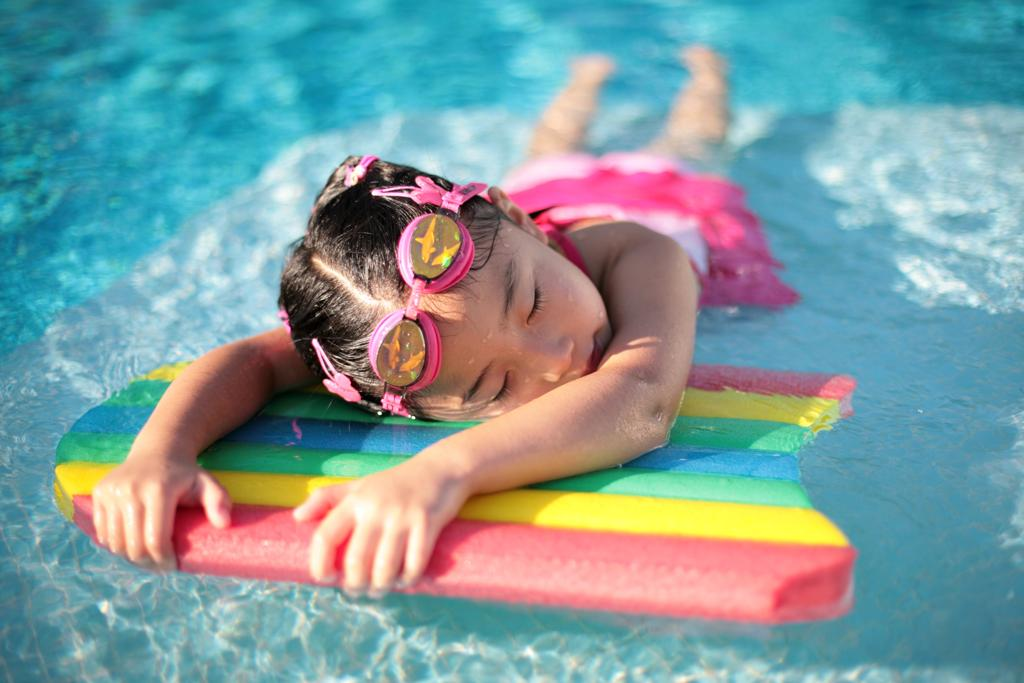face: (416, 260, 620, 434)
